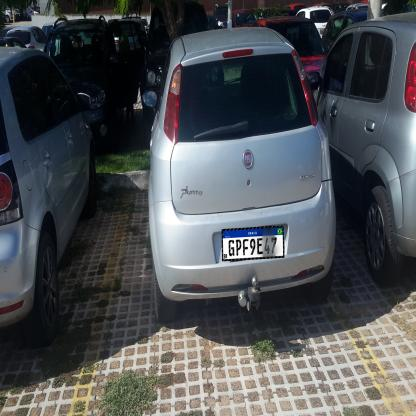PlacaM: (222, 226, 284, 261)
